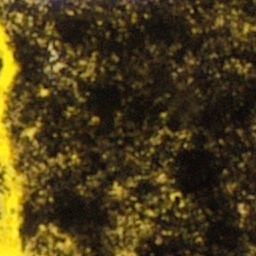cement_matrix: (0, 0, 255, 255), (60, 239, 71, 250), (25, 128, 34, 138)
cracks: (0, 18, 42, 255), (61, 240, 70, 249), (125, 252, 131, 255)
gravel_crushed_stones: (26, 129, 33, 137)
